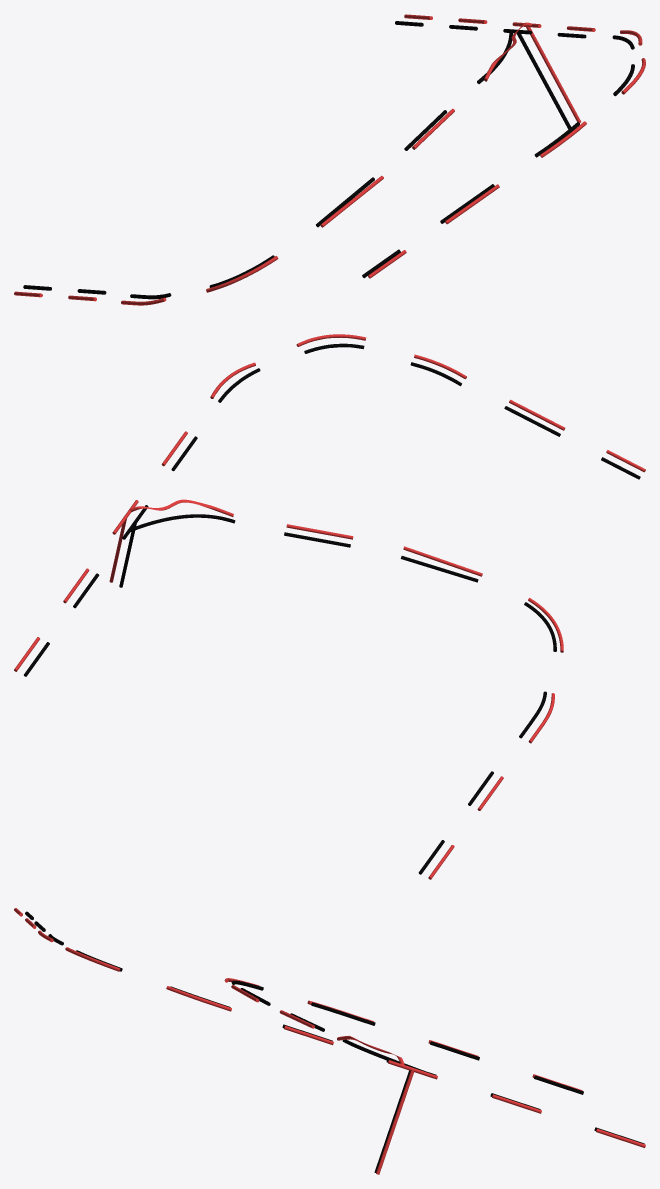
Rendered from FIXED.glb.
3 views of the same model, one above another, from view 1: azimuth 30°, elevation 25°; view 2: azimuth 150°, elevation 25°; view 3: azimuth 270°, elevation 25° (orthographic). The views are drawn at different scales.
Size of the model in its own units: 0.1388 by 0.0924 by 0.1713.
